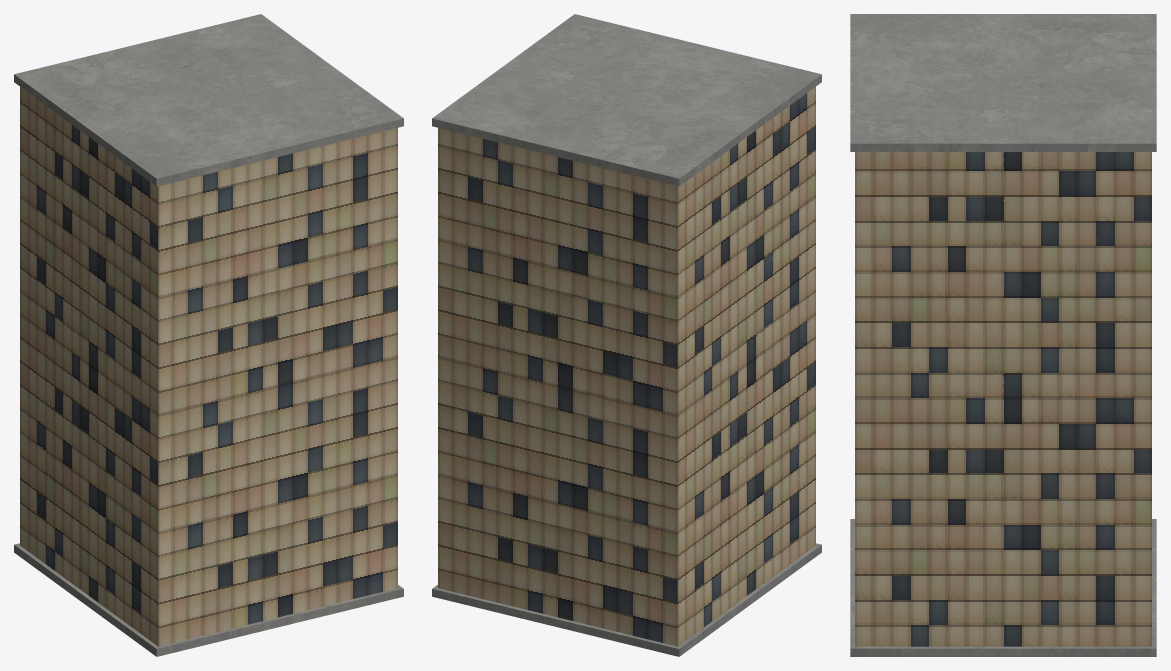
Rendered from building_07.2.glb.
3 renders of one model, left to right at view 1: azimuth 30°, elevation 25°; view 2: azimuth 150°, elevation 25°; view 3: azimuth 270°, elevation 25°, orthographic. The views are drawn at different scales.
Parts seen in each view (by area): view 1: building_07_22; view 2: building_07_22; view 3: building_07_22.
Part boxes in pixels (box(x1,y1,x2,y2)): building_07_22: box(14, 14, 403, 656); building_07_22: box(432, 14, 821, 656); building_07_22: box(850, 14, 1156, 656).
Size of the model in its own units: 33 by 61 by 33.
Materials: 1 (1 with a texture image).
